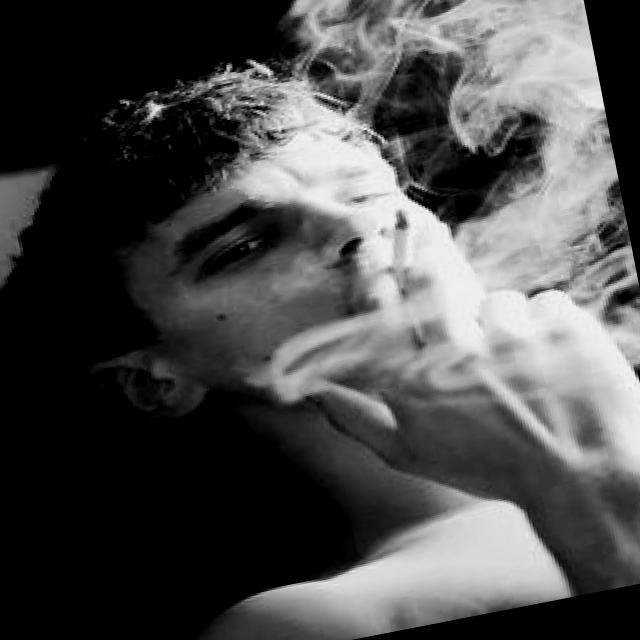smoke: (381, 208, 426, 285)
